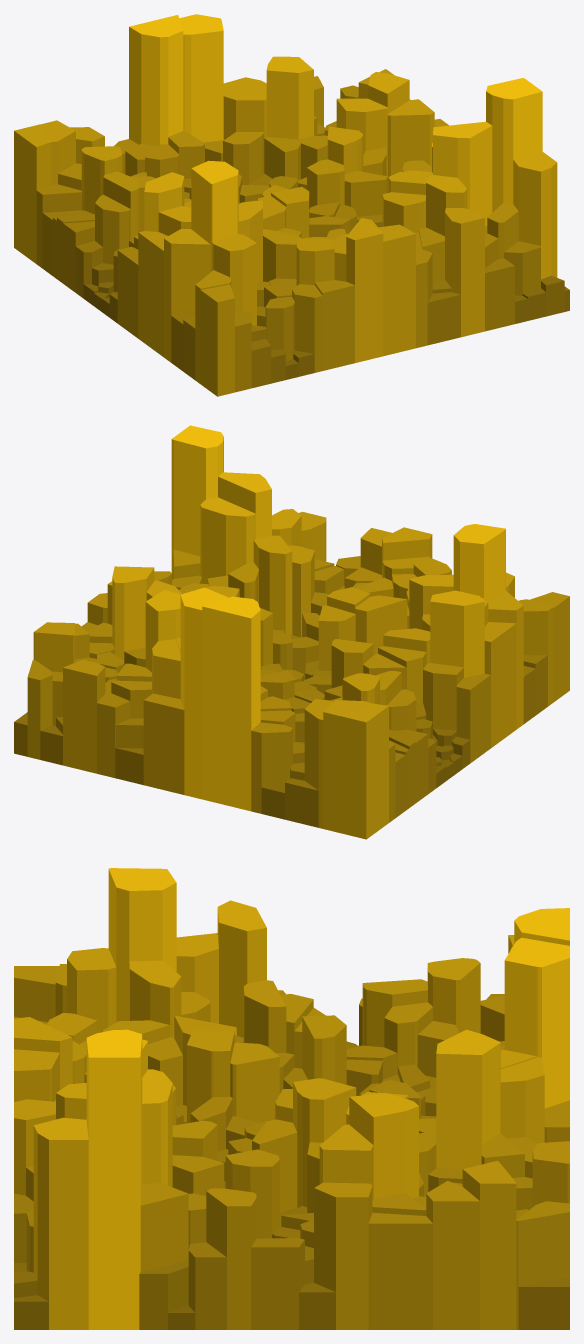
File: VTOWNo.fbx
3 views of the same model, one above another, from view 1: azimuth 30°, elevation 25°; view 2: azimuth 150°, elevation 25°; view 3: azimuth 270°, elevation 25° (orthographic). The views are drawn at different scales.
Visible parts, largest first — view 1: オブジェクト_251, オブジェクト_103, オブジェクト_214, オブジェクト_205, オブジェクト_207, オブジェクト_100, オブジェクト_177, オブジェクト_6, オブジェクト_211, オブジェクト_51, オブジェクト_206, オブジェクト_69 (+57 smaller); view 2: オブジェクト_251, オブジェクト_51, オブジェクト_103, オブジェクト_214, オブジェクト_159, オブジェクト_276, オブジェクト_179, オブジェクト_147, オブジェクト_230, オブジェクト_244, オブジェクト_200, オブジェクト_40 (+56 smaller); view 3: オブジェクト_103, オブジェクト_207, オブジェクト_214, オブジェクト_211, オブジェクト_37, オブジェクト_154, オブジェクト_230, オブジェクト_162, オブジェクト_58, オブジェクト_200, オブジェクト_161, オブジェクト_159 (+55 smaller).
Part boxes in pixels (x1,y1,x2,y2): オブジェクト_251: (129,15,183,146); オブジェクト_103: (486,78,542,212); オブジェクト_214: (179,14,223,142); オブジェクト_205: (346,218,383,362); オブジェクト_207: (513,151,557,279); オブジェクト_100: (445,208,484,337); オブジェクト_177: (433,121,492,226); オブジェクト_6: (378,224,415,356); オブジェクト_211: (266,56,313,139); オブジェクト_51: (14,124,50,263); オブジェクト_206: (200,284,234,396); オブジェクト_69: (164,229,210,362); オブジェクト_251: (202,596,260,811); オブジェクト_51: (340,703,388,839); オブジェクト_103: (171,425,223,580); オブジェクト_214: (180,587,228,799); オブジェクト_159: (430,590,484,677); オブジェクト_276: (63,659,105,773); オブジェクト_179: (143,693,184,794); オブジェクト_147: (200,497,255,583); オブジェクト_230: (453,524,505,601); オブジェクト_244: (484,622,516,747); オブジェクト_200: (112,566,154,660); オブジェクト_40: (253,535,292,634); オブジェクト_103: (86,1029,142,1329); オブジェクト_207: (33,1117,88,1329); オブジェクト_214: (504,937,569,1108); オブジェクト_211: (436,1029,500,1168); オブジェクト_37: (368,1212,432,1329); オブジェクト_154: (314,1182,372,1329); オブジェクト_230: (108,868,176,1021); オブジェクト_162: (426,1181,479,1329); オブジェクト_58: (462,1161,516,1329); オブジェクト_200: (349,1093,418,1198); オブジェクト_161: (206,1188,256,1329); オブジェクト_159: (217,900,266,1037).
Bounding box in the file's own units: 100 × 100 × 54.
